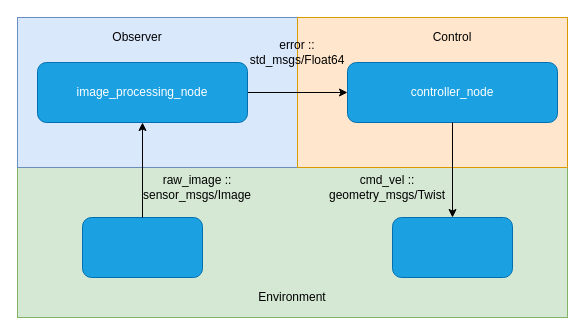
This 585x335 diagram has some shape labels left out. The centre of each missing label's shape, as x and y in pixels:
cv_camera: the point at 142,247
pwm_node: the point at 452,247
